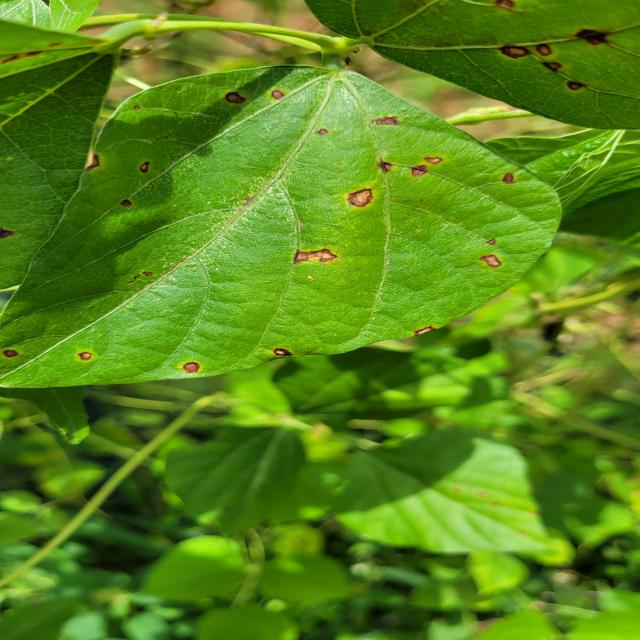Dolicos bean_cercospora leaf spot: (6, 58, 565, 398)
